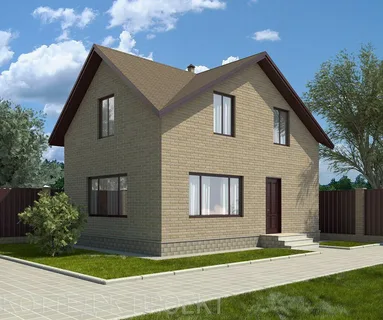private_hause: (64, 41, 327, 253)
